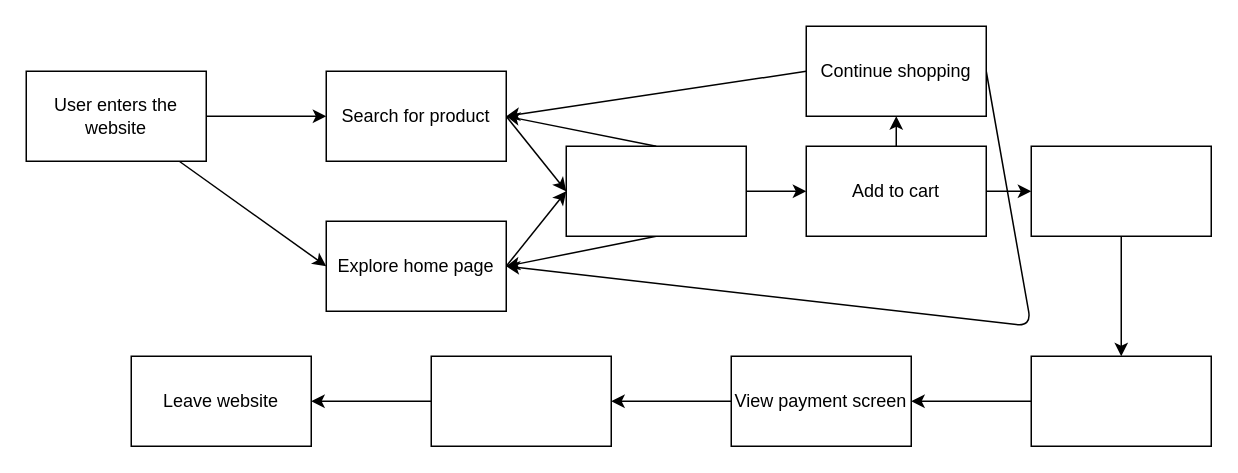
Some shapes in this 1238 by 473 pixel diagram are drawn without their labels. The shapes that lost their labels are listed below. From the top down, each one's box as (x1, y1, x2, y2) in pixels, then its label:
(565, 145, 746, 236): Choose a specific product and load product page
(1030, 145, 1211, 236): Proceed to checkout
(430, 355, 611, 446): Order confirmation screen and send email
(1030, 355, 1211, 446): View cart screen
